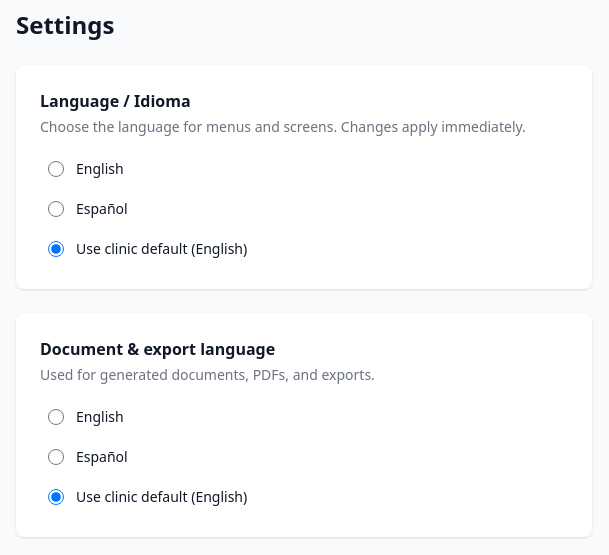
Scenario: SettingsPage › changing the export language PUTs without touching the UI language
The image size is (609, 555).
Click the radio button labelled "Español" below "Document & export language".
click(56, 457)  # box x1=48 y1=449 x2=64 y2=465
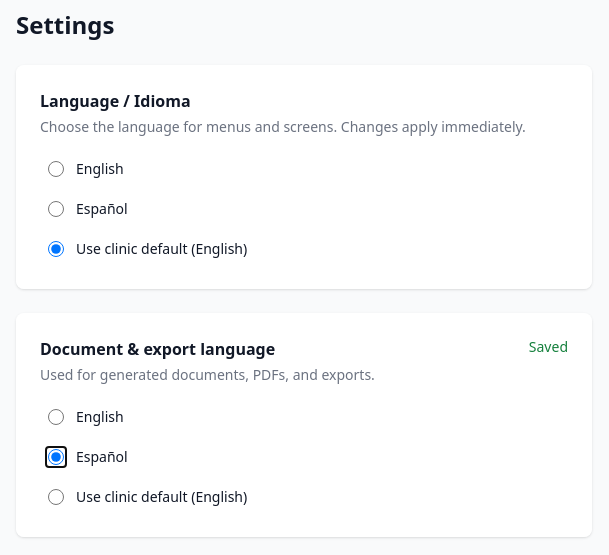
Check: the text "Saved" is shown, box x1=529 y1=337 x2=568 y2=357
